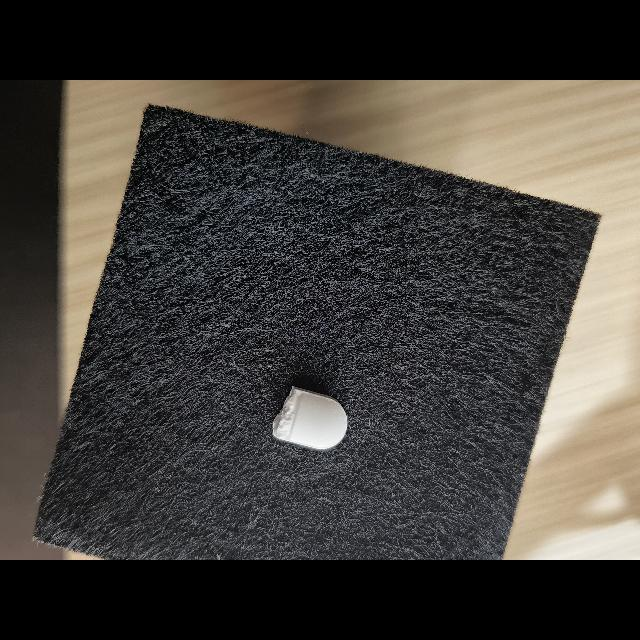Chipped Pill: (272, 386, 348, 449)
